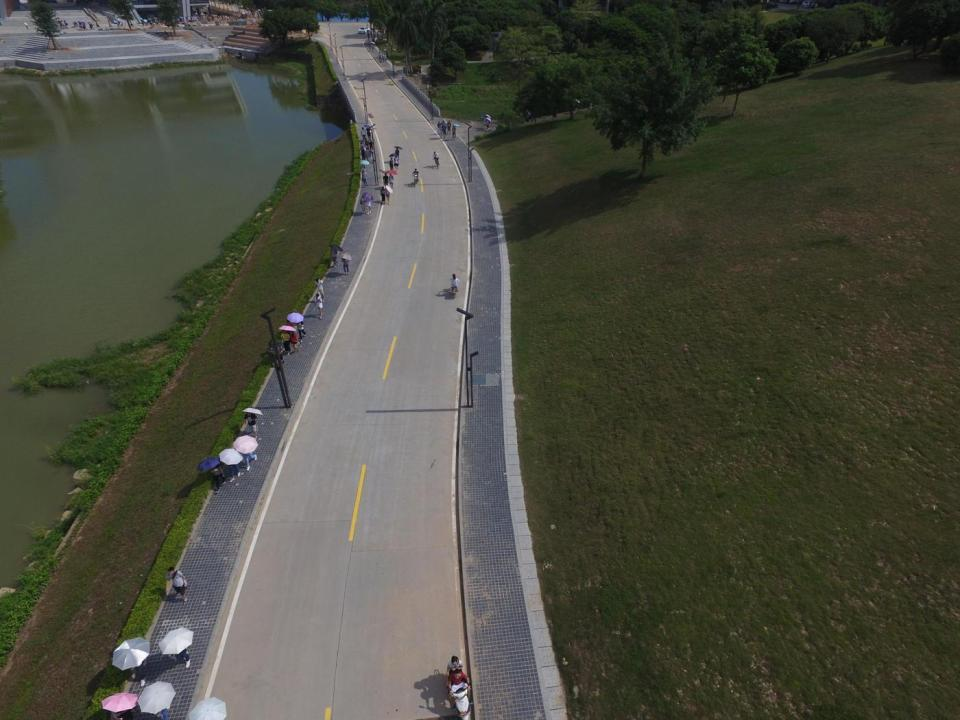car: (358, 26, 370, 34)
